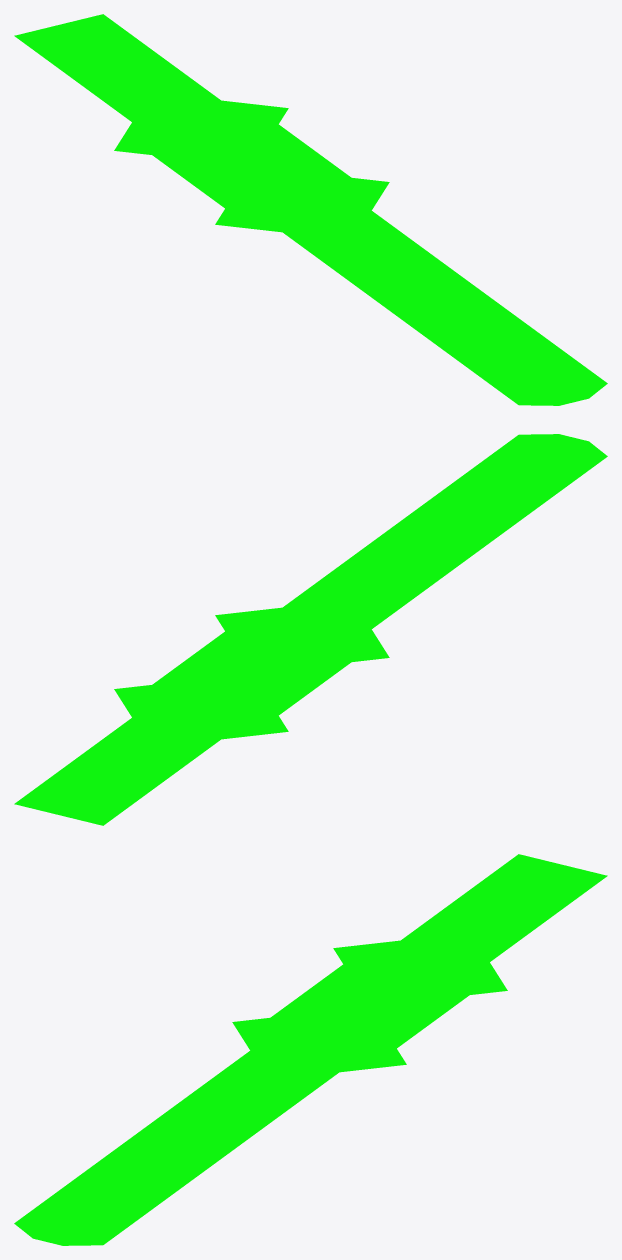
Rendered from s06a_sa1-floor.glb.
3 renders of one model, top to bottom at view 1: azimuth 30°, elevation 25°; view 2: azimuth 150°, elevation 25°; view 3: azimuth 330°, elevation 25°, orthographic.
Parts seen in each view (by area): view 1: collision_floor-colonly; view 2: collision_floor-colonly; view 3: collision_floor-colonly.
Part boxes in pixels (bbox=[...]): collision_floor-colonly: bbox=[14, 14, 607, 405]; collision_floor-colonly: bbox=[14, 434, 607, 825]; collision_floor-colonly: bbox=[14, 854, 607, 1245].
Bounding box in the file's own units: 23.5 × 0 × 120.
